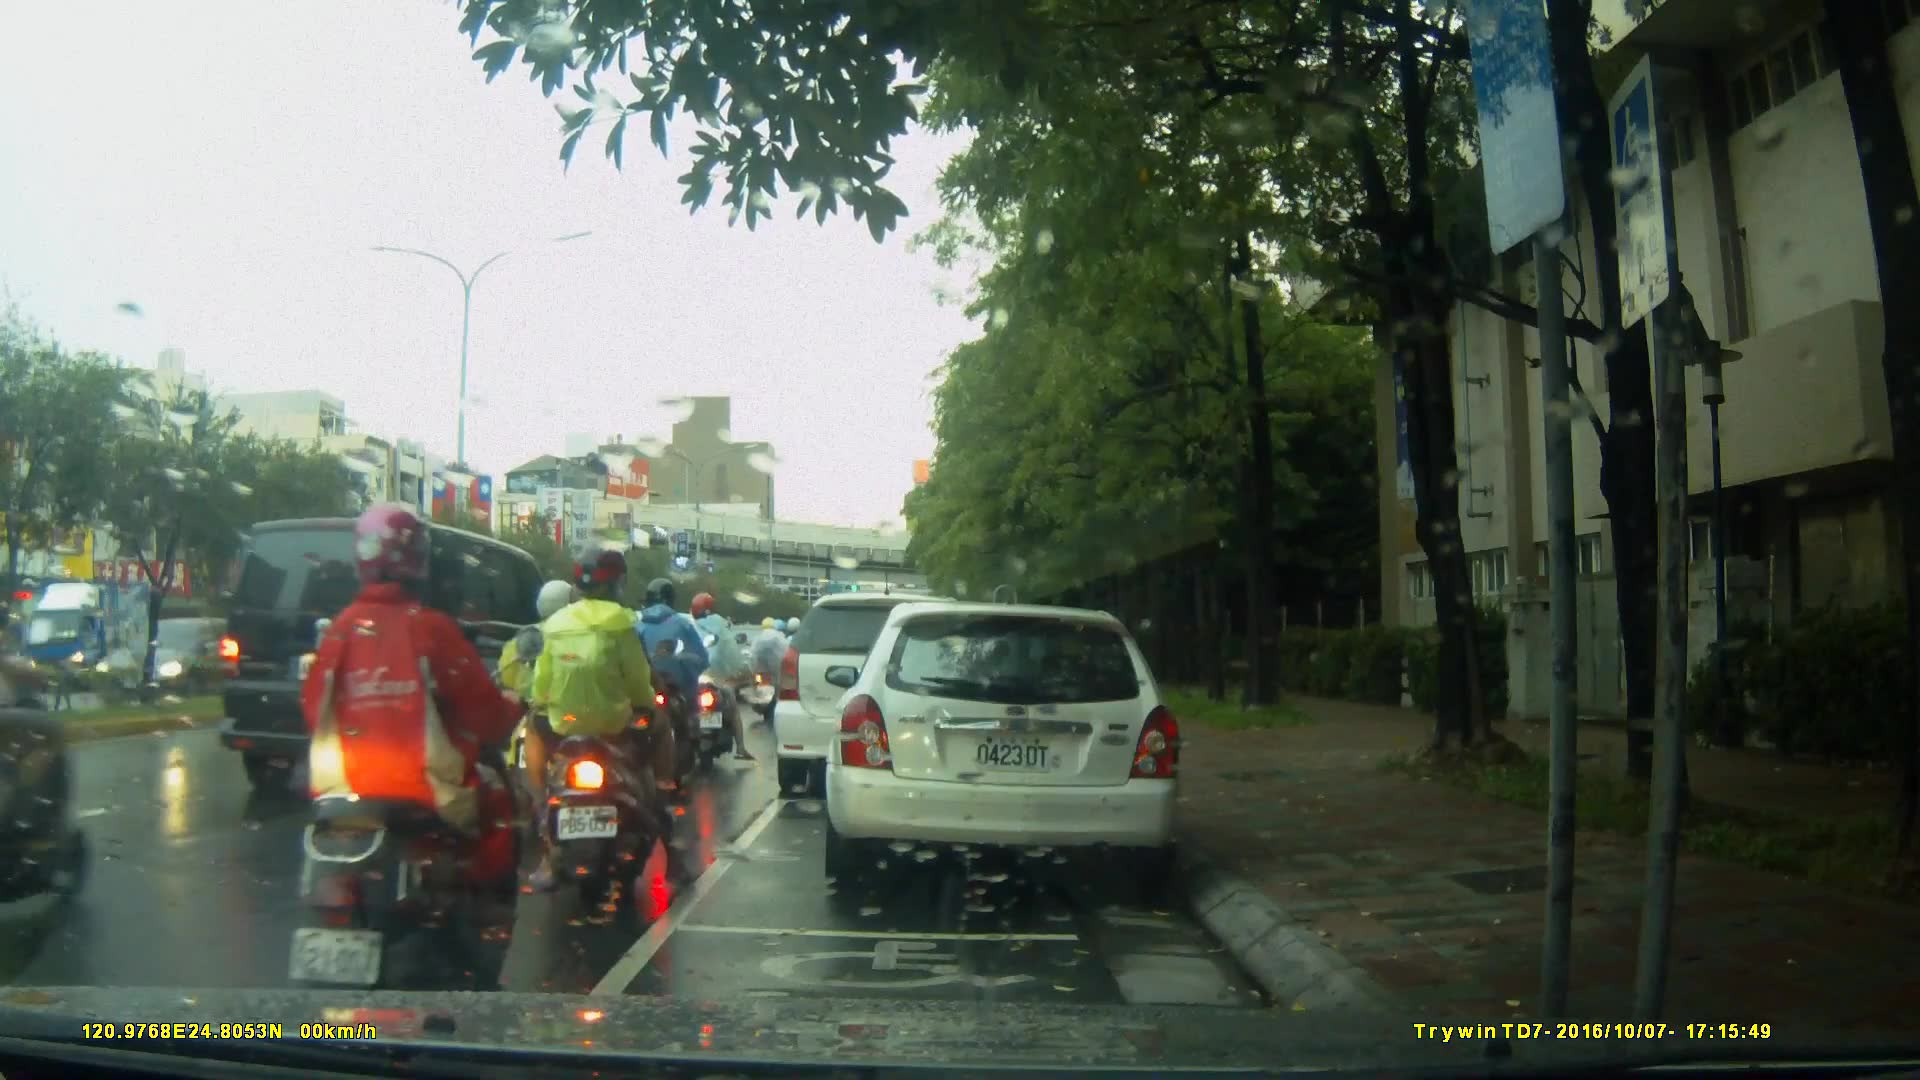rider: (286, 505, 543, 1024), (515, 542, 688, 907), (518, 584, 627, 861), (623, 580, 723, 793), (680, 593, 750, 766), (746, 612, 792, 721)
vehicle: (204, 515, 600, 805), (822, 604, 1188, 883), (774, 595, 995, 802), (520, 607, 729, 754), (20, 576, 199, 697), (76, 613, 279, 710)
